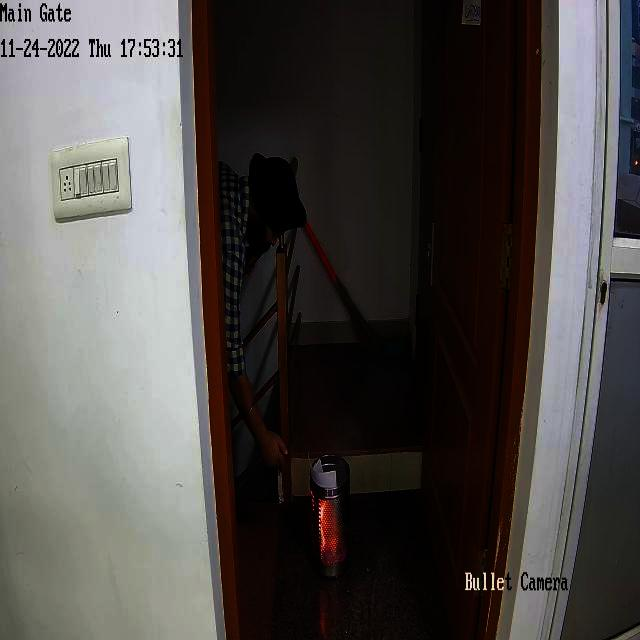fire: (319, 504, 326, 554)
smoke: (316, 342, 334, 398), (327, 412, 342, 447), (322, 218, 338, 248), (318, 292, 329, 312)
